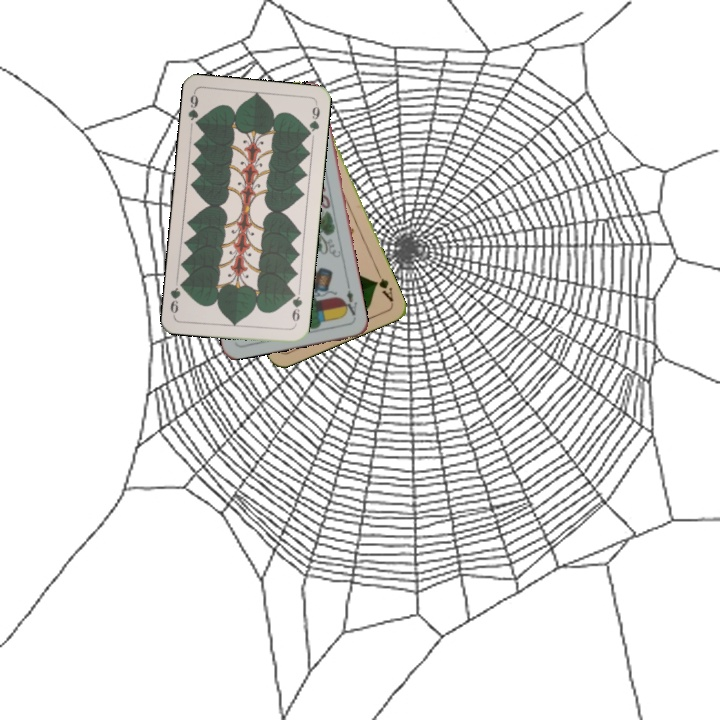EA: (339, 281, 360, 318)
G9: (184, 89, 203, 130), (288, 288, 305, 329)
GA: (370, 267, 396, 304)
